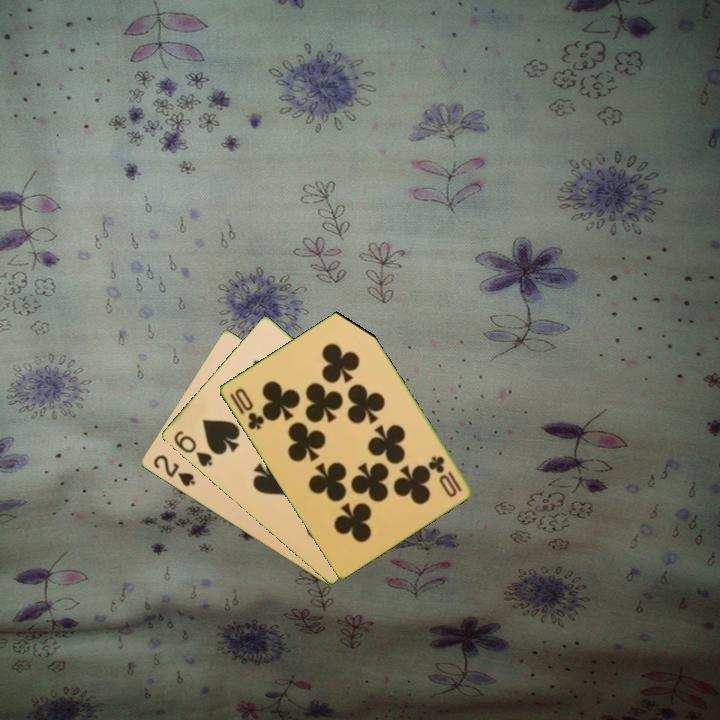10c: (226, 384, 267, 433), (425, 452, 465, 500)
2s: (149, 451, 198, 490)
6s: (170, 427, 215, 470)
